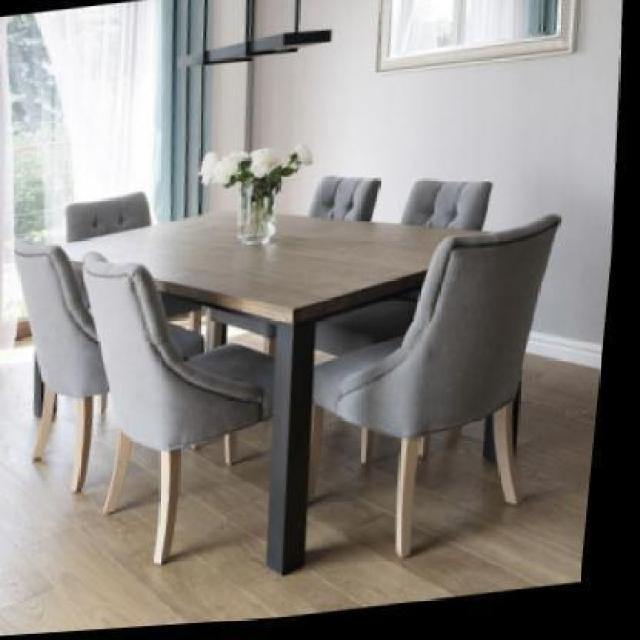tables: (46, 206, 491, 574)
